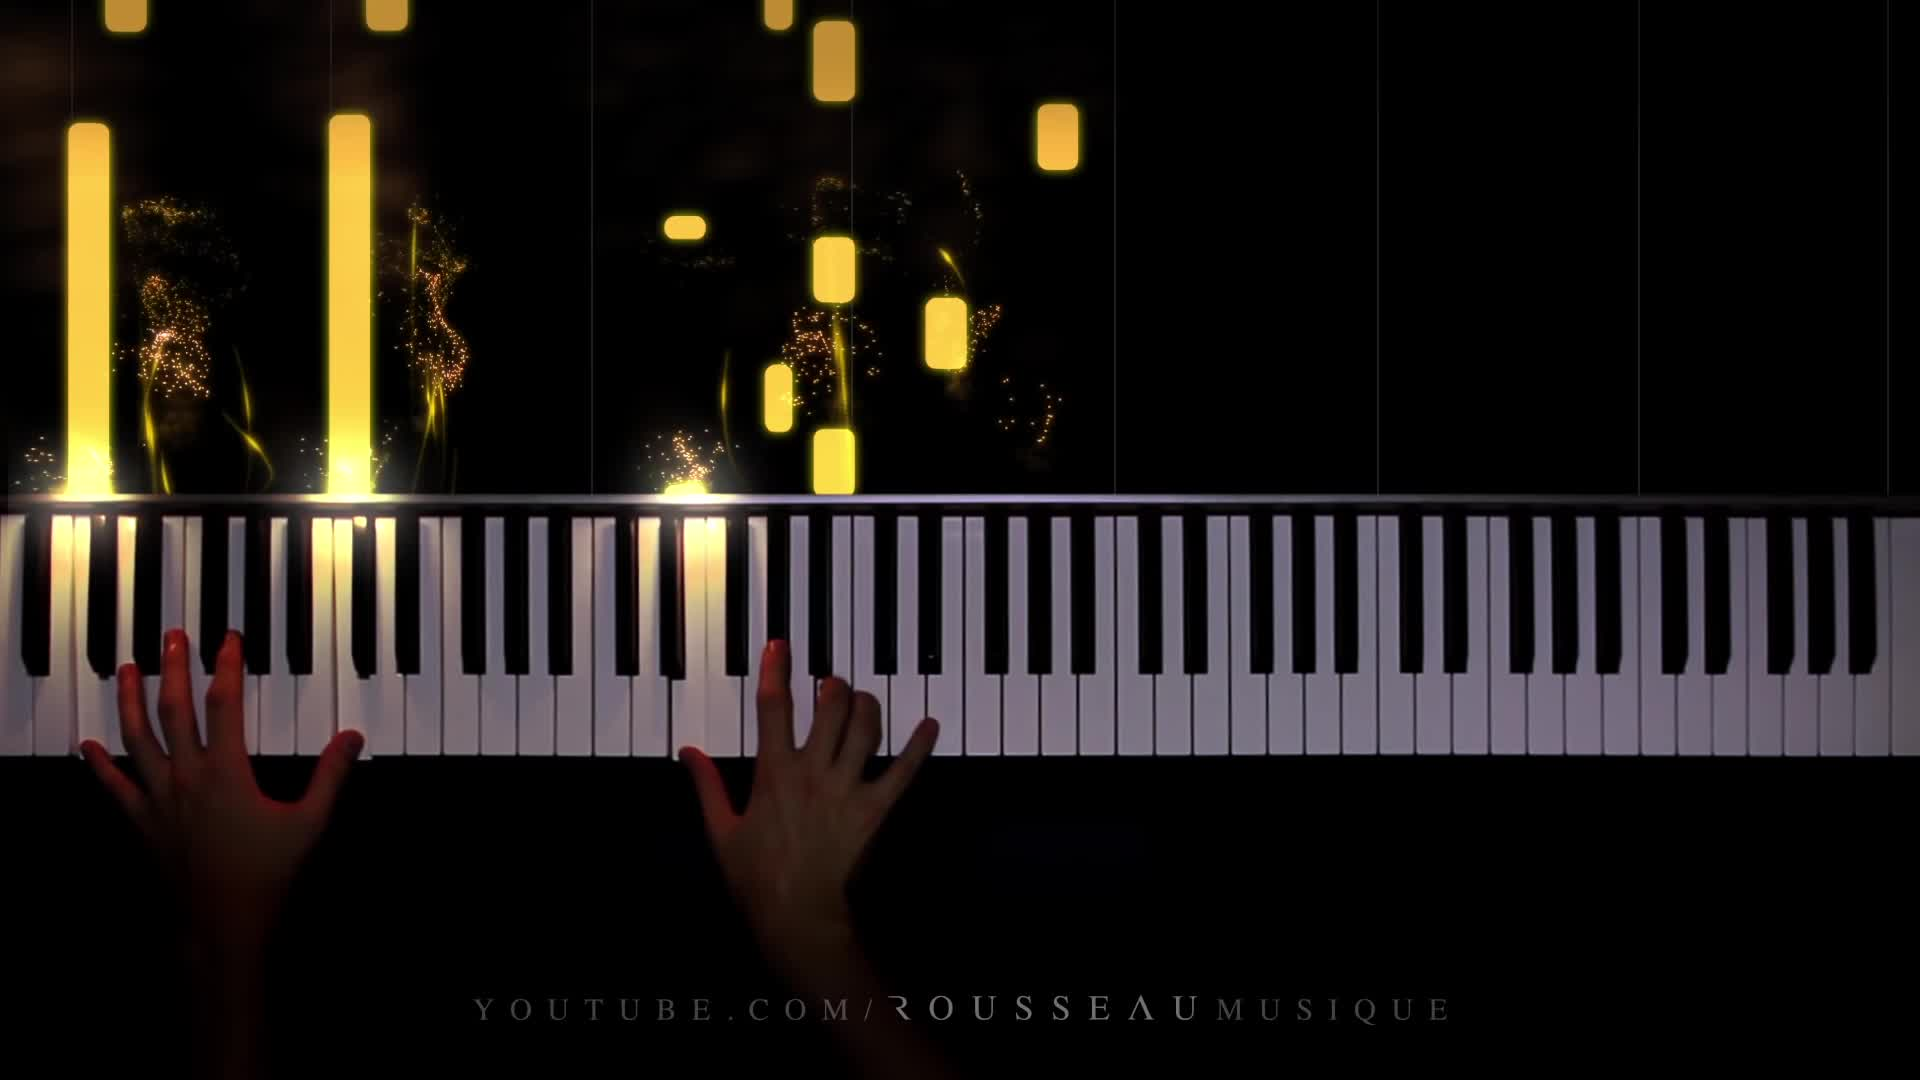left: (82, 624, 364, 903)
right: (680, 636, 940, 914)
